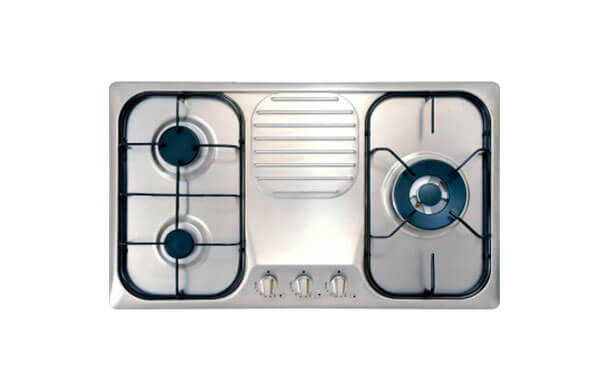gasoven: (109, 78, 502, 312)
